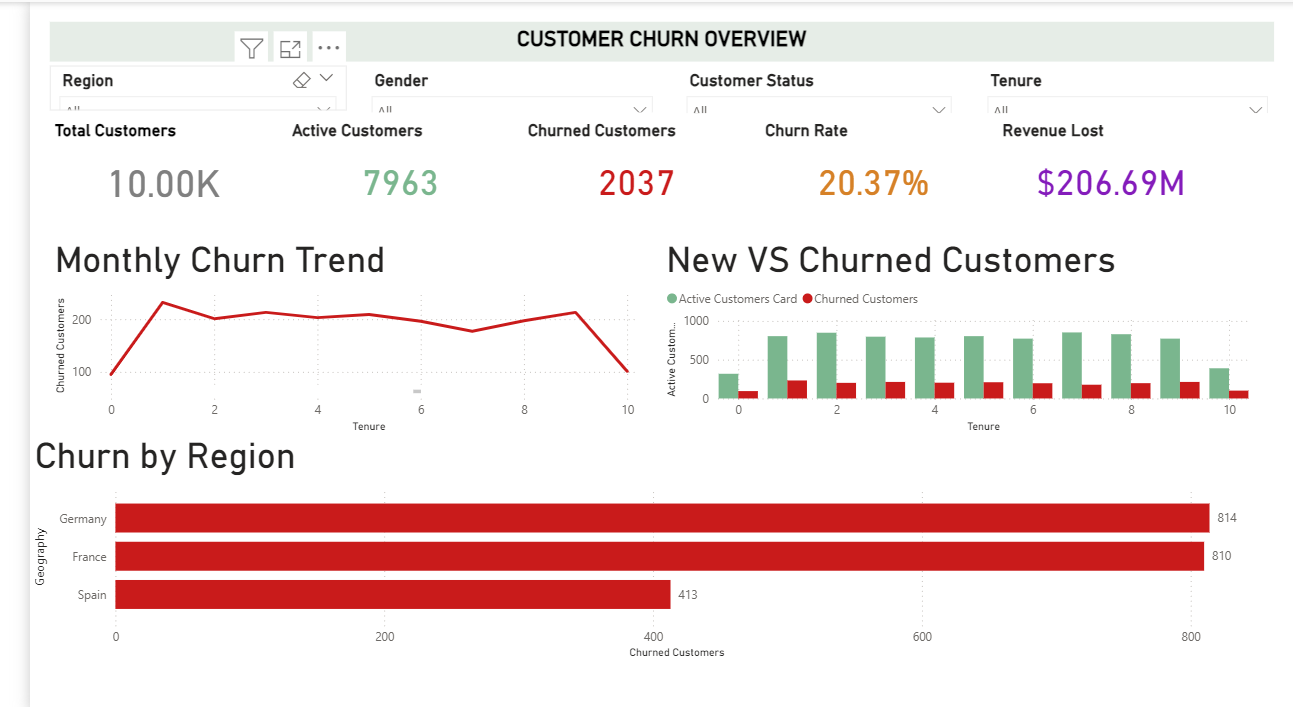

The dashboard page shown, as its layout file describes it:
{"tool":"powerbi","page":{"name":"Page 1","canvas":[1280,720],"ordinal":0},"visuals":[{"type":"card","title":"Total Customers","fields":{"Values":["CountNonNull(Bank_Churn (2).CustomerId)"]},"box":[20,120,230,100],"z":0},{"type":"card","title":"Active Customers","fields":{"Values":["Bank_Churn (2).Active Customers Card"]},"box":[260,120,230,100],"z":1000},{"type":"card","title":"Churned Customers","fields":{"Values":["Bank_Churn (2).Churned Customers"]},"box":[500,120,230,100],"z":2000},{"type":"card","title":"Churn Rate","fields":{"Values":["Bank_Churn (2).Churn Rate","select"]},"box":[740,120,230,100],"z":3000},{"type":"card","title":"Revenue Lost","fields":{"Values":["Bank_Churn (2).Revenue Lost"]},"box":[980,120,230,100],"z":4000},{"type":"lineChart","title":"Monthly Churn Trend","fields":{"Category":["Bank_Churn (2).Tenure"],"Y":["Bank_Churn (2).Churned Customers"]},"box":[20,240,600,200],"z":5000},{"type":"clusteredColumnChart","title":"New VS Churned Customers","fields":{"Category":["Bank_Churn (2).Tenure"],"Y":["Bank_Churn (2).Active Customers Card","Bank_Churn (2).Churned Customers"]},"box":[640,240,600,200],"z":6000},{"type":"barChart","title":"Churn by Region","fields":{"Category":["Bank_Churn (2).Geography"],"Y":["Bank_Churn (2).Churned Customers"]},"box":[0,439.2,1239.5,230.8],"z":7000},{"type":"textbox","box":[20,20,1240,40],"z":8000},{"type":"slicer","title":"Gender","fields":{"Values":["Bank_Churn (2).Gender"]},"box":[336.4,64.2,304.3,47.3],"z":9000},{"type":"slicer","fields":{"Values":["Bank_Churn (2).Exited"]},"box":[656,64,288,48],"z":10000},{"type":"slicer","fields":{"Values":["Bank_Churn (2).Tenure"]},"box":[960,64,304,48],"z":11000},{"type":"textbox","box":[99.7,387.1,300.9,13.5],"z":12000},{"type":"slicer","title":"Region","fields":{"Values":["Bank_Churn (2).Geography"]},"box":[20,65,300,45],"z":13000}]}

Visuals, with their boxes in screenshot pixels (x1, y1, x2, y2), scaled from the page's 1280x720 canvas onto the 1293x707 screenshot:
"Total Customers" card: x1=20 y1=118 x2=253 y2=216
"Active Customers" card: x1=263 y1=118 x2=495 y2=216
"Churned Customers" card: x1=505 y1=118 x2=737 y2=216
"Churn Rate" card: x1=748 y1=118 x2=980 y2=216
"Revenue Lost" card: x1=990 y1=118 x2=1222 y2=216
"Monthly Churn Trend" lineChart: x1=20 y1=236 x2=626 y2=432
"New VS Churned Customers" clusteredColumnChart: x1=646 y1=236 x2=1253 y2=432
"Churn by Region" barChart: x1=0 y1=431 x2=1252 y2=658
textbox: x1=20 y1=20 x2=1273 y2=59
"Gender" slicer: x1=340 y1=63 x2=647 y2=109
slicer - Bank_Churn (2).Exited: x1=663 y1=63 x2=954 y2=110
slicer - Bank_Churn (2).Tenure: x1=970 y1=63 x2=1277 y2=110
textbox: x1=101 y1=380 x2=405 y2=393
"Region" slicer: x1=20 y1=64 x2=323 y2=108
